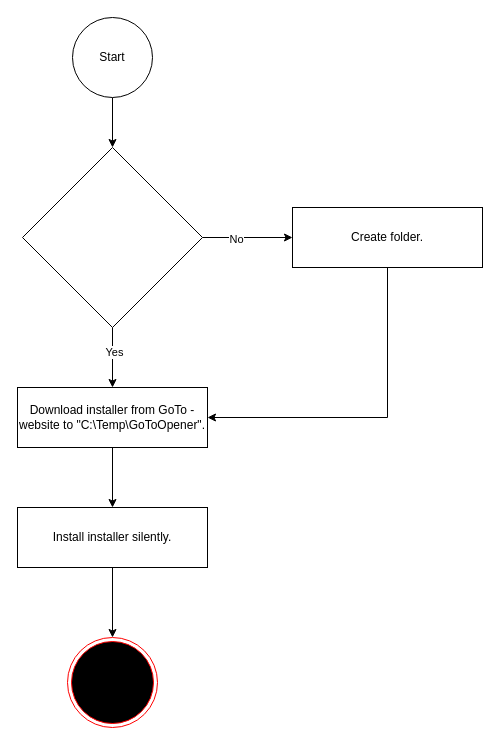
The diagram is 500 pixels wide and 745 high, and some of its shapes have lost their labels. The centre of each missing label's shape, as x and y in pixels:
Check if the following path has been created: "C:\Temp\GoToOpener": the point at 112,237
End: the point at 112,682
